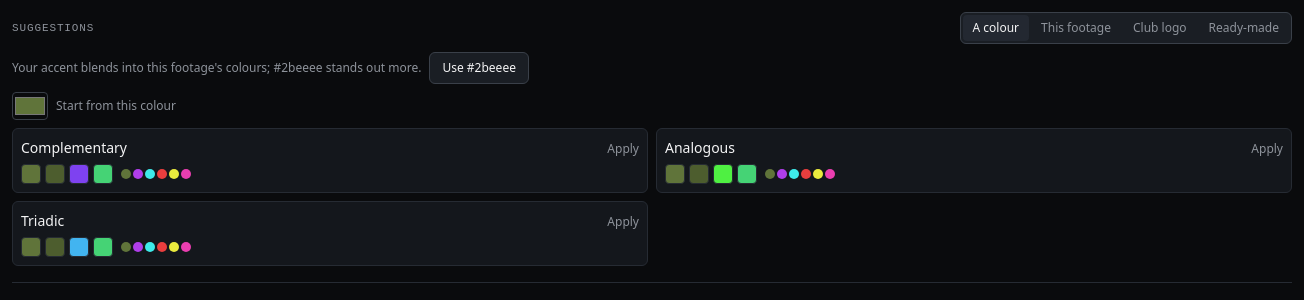
PaletteSuggestions › offers palettes from the club logo's colours
The image size is (1304, 300).
Expected: the text "blends into this footage" is shown, [12, 59, 421, 76]
Click the button "Club logo" at x=1160, y=28, box [1123, 15, 1197, 41]
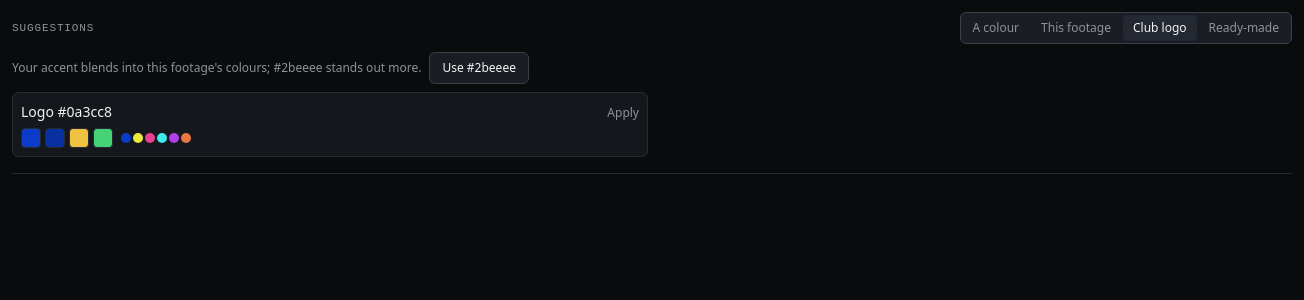
Expected: the button with aria-label "Use the Logo #0a3cc8 palette" is shown, [12, 92, 648, 157]
